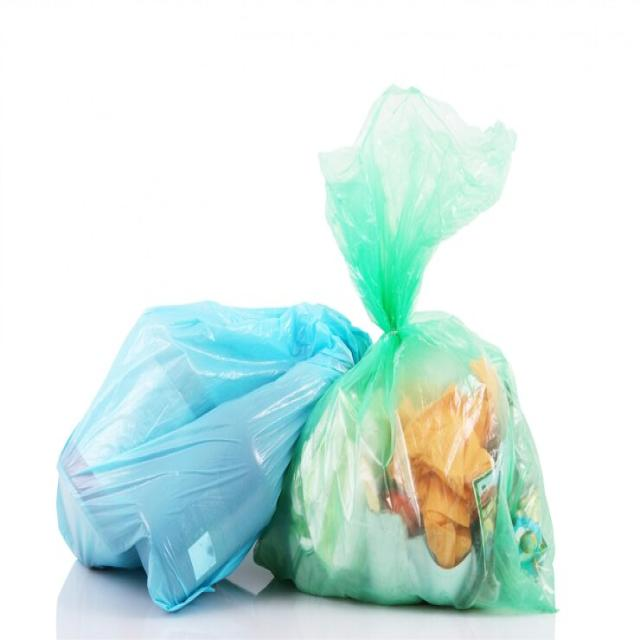plastic_bag: (240, 69, 579, 630), (46, 278, 381, 635)
